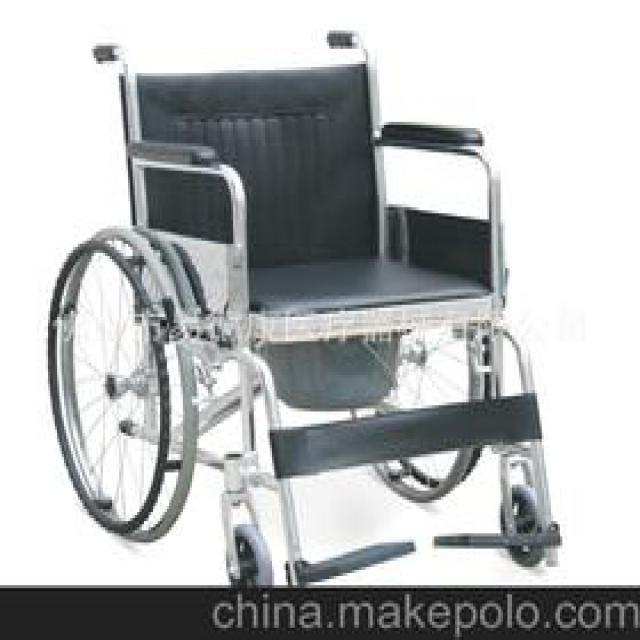wheelchair: (14, 30, 572, 582)
